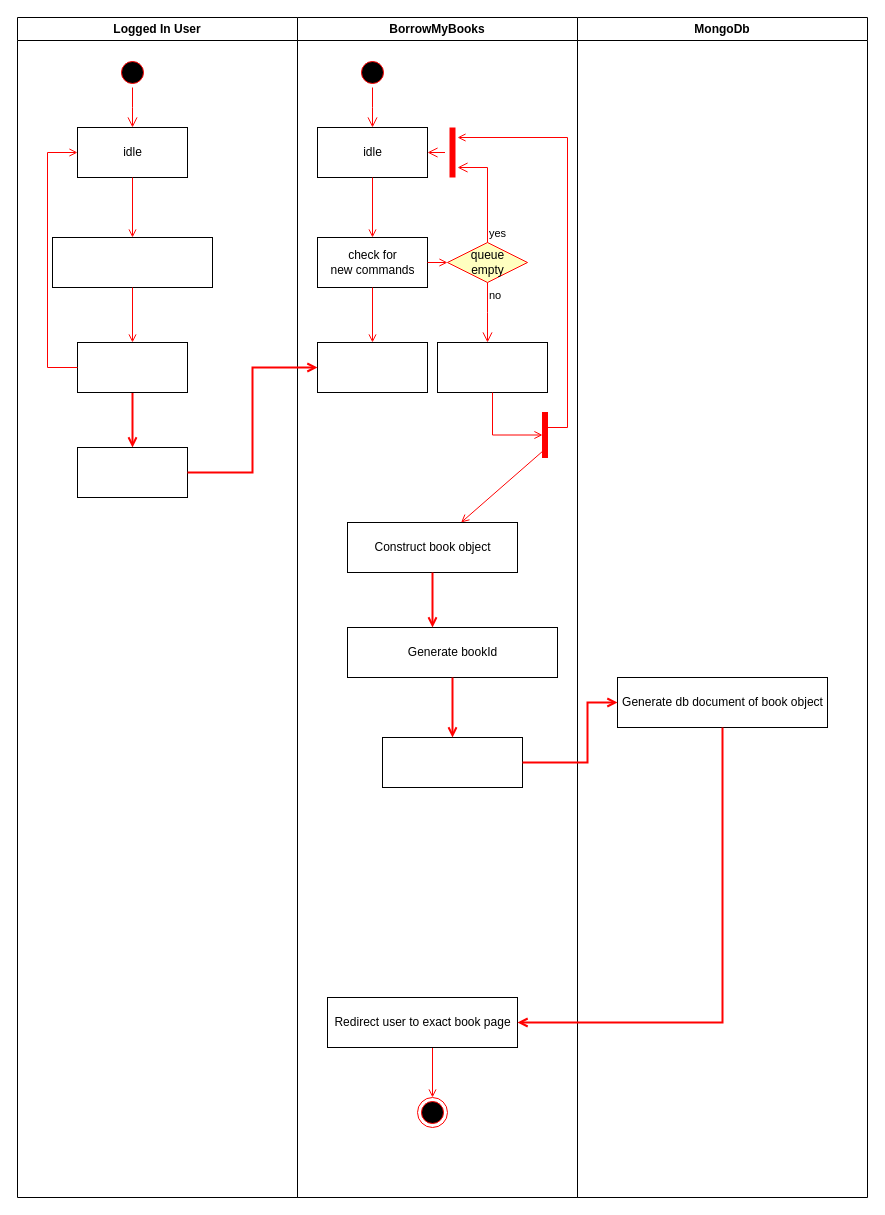
The diagram is 885 pixels wide and 1215 high, and some of its shapes have lost their labels. The shapes that lost their labels are listed below. From the top down, each one's centre as x and y in pixels, then its label:
At [132,262]: "Go To Upload Book Page".
At [132,367]: "Fill in details".
At [372,367]: "command queue".
At [492,367]: "dispatch command worker thread".
At [132,472]: "Post details".
At [452,762]: "Post to database".
